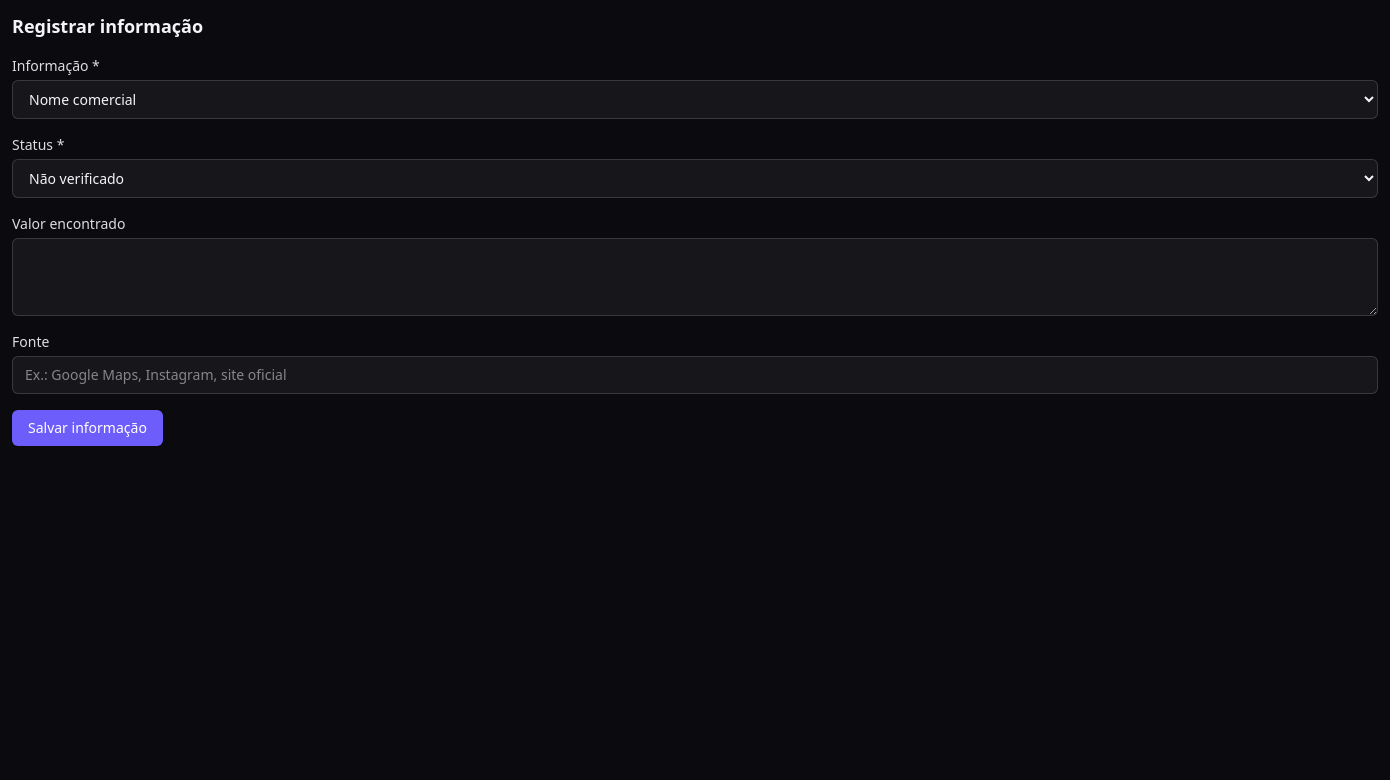
Test: EnrichmentFieldForm › shows validation errors returned by the action
The width and height of the screenshot is (1390, 780).
Click the button "Salvar informação": (87, 428) x1=12 y1=410 x2=163 y2=446
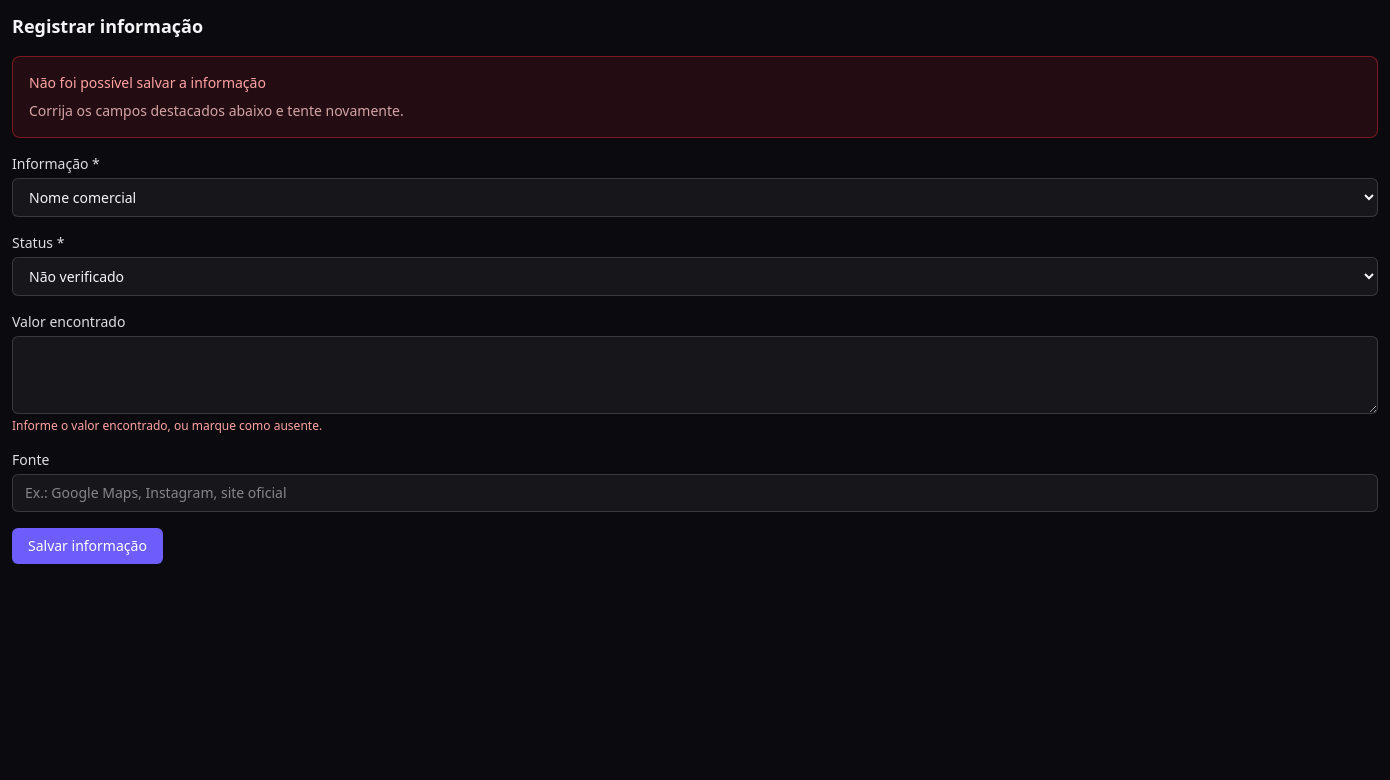
Now the text "Informe o valor encontrado, ou marque como ausente." is shown, box x1=12 y1=417 x2=322 y2=434
Now the message shows "Não foi possível salvar a informação", box x1=29 y1=73 x2=266 y2=92
